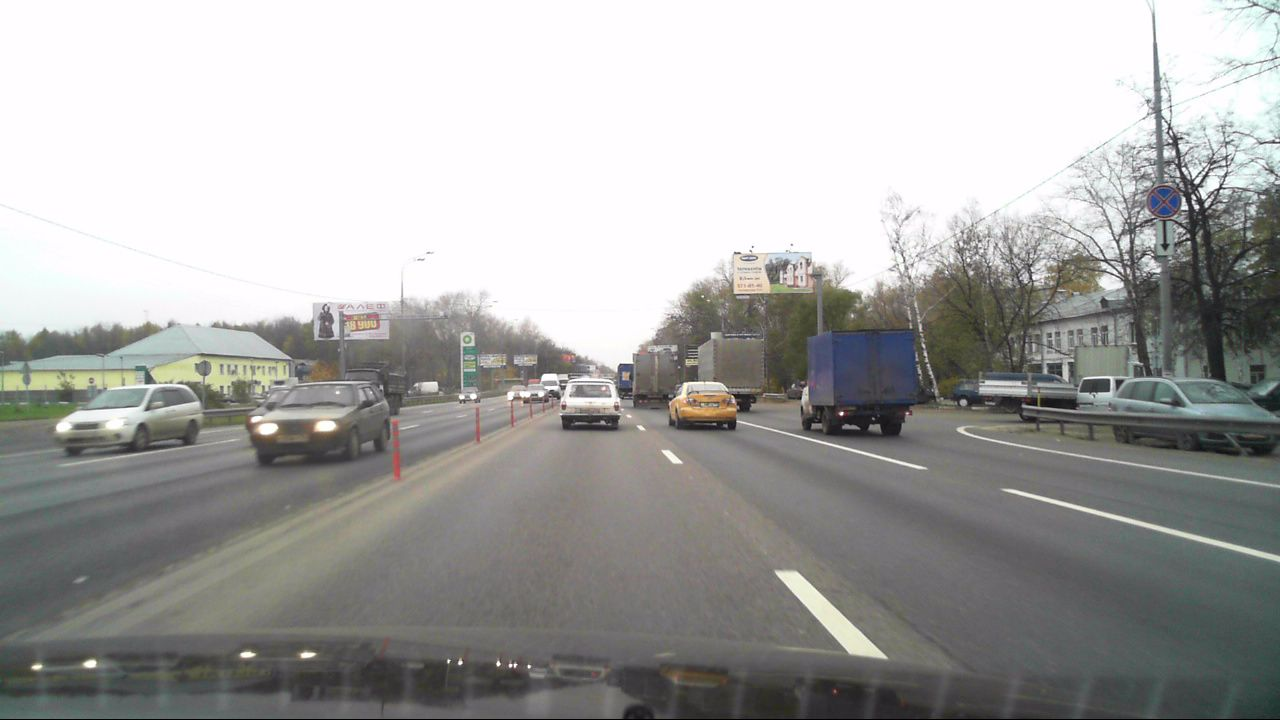No Parking: (1146, 185, 1181, 219)
